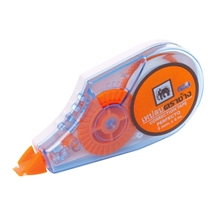Correction_fluid: (11, 35, 208, 179)
